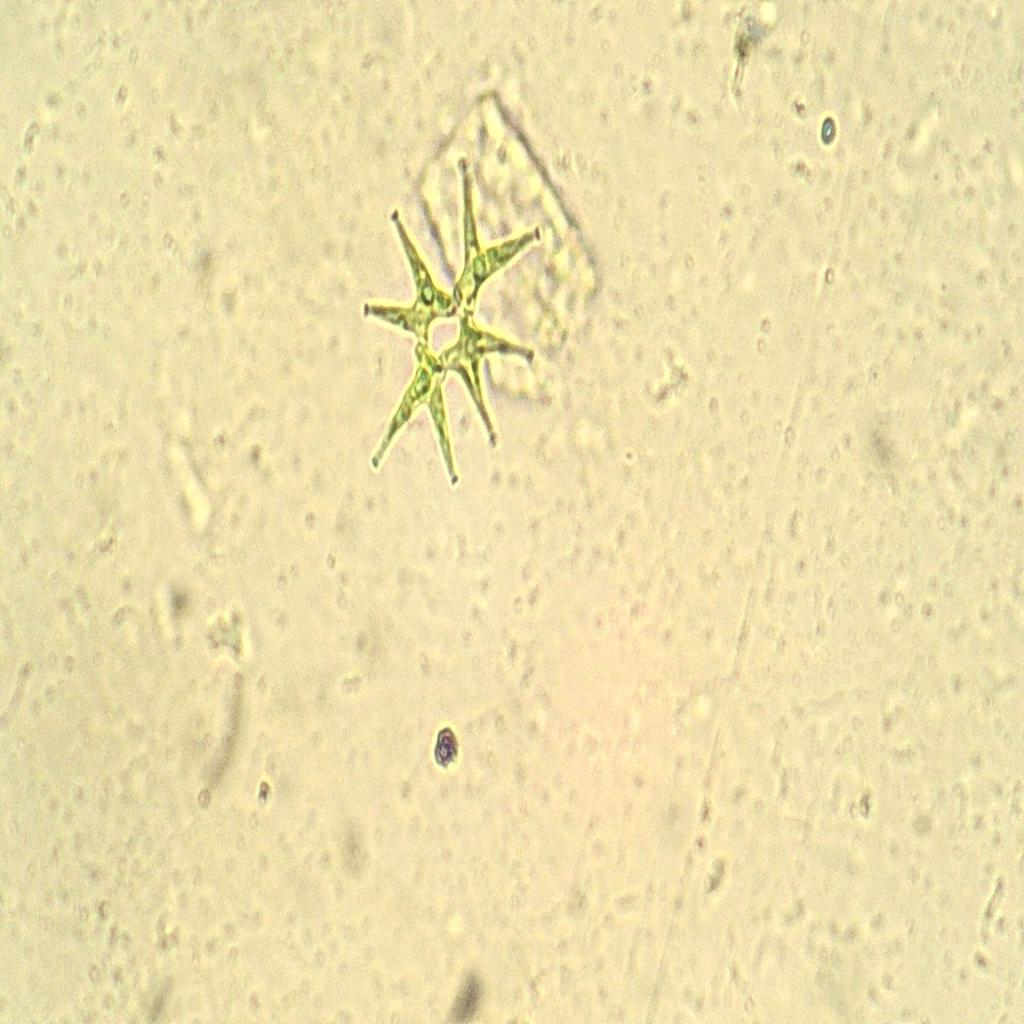Pediastrum_75FI: (353, 146, 549, 520)
